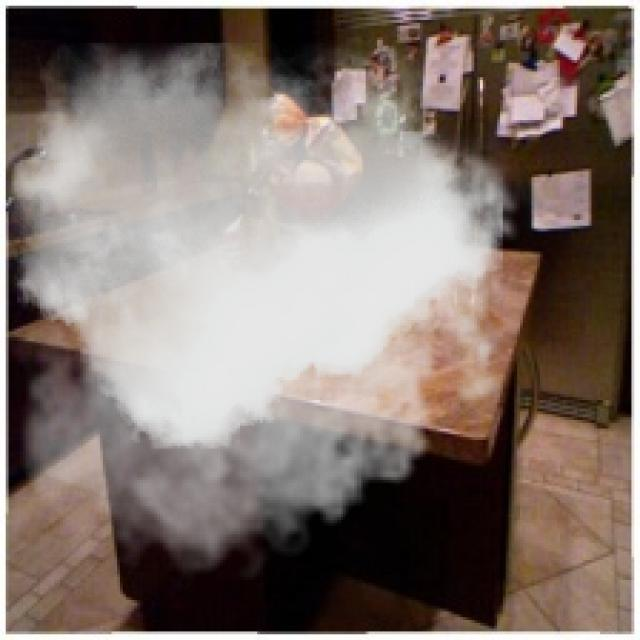smoke: (9, 43, 534, 591)
